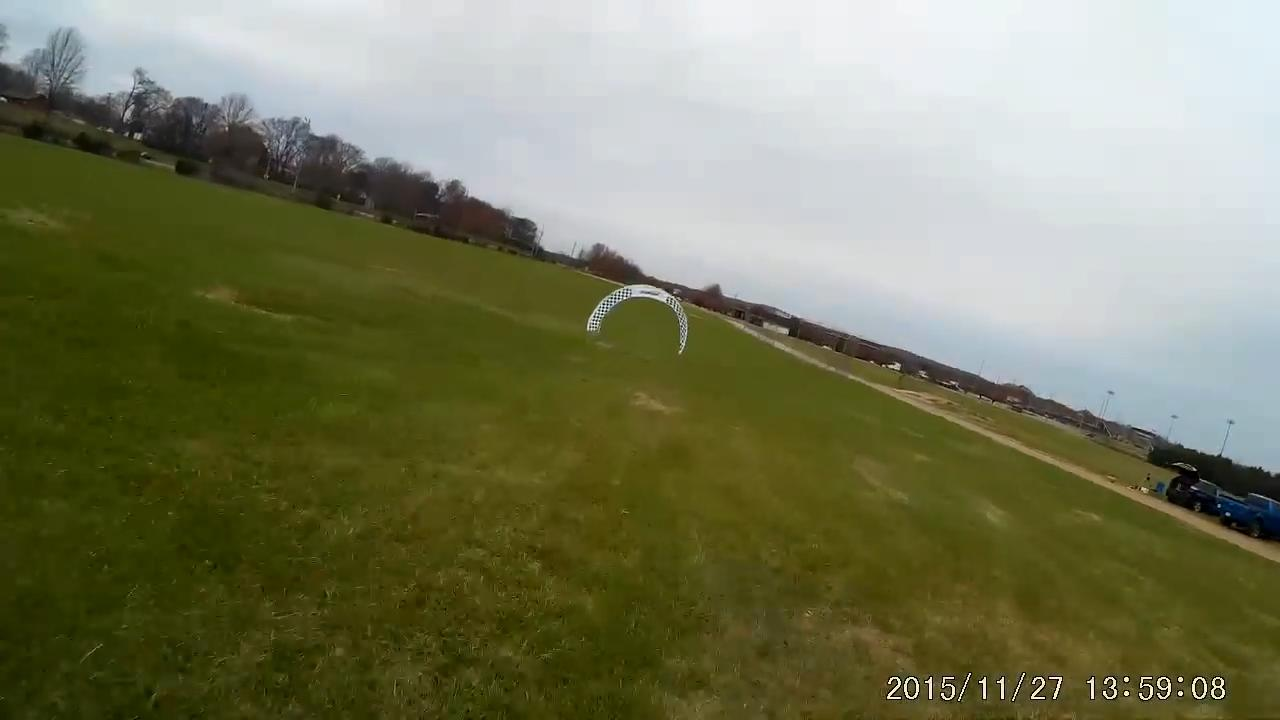gate: (585, 281, 691, 356)
